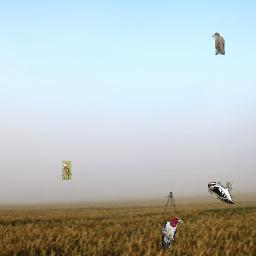Cuckoo: (212, 32, 225, 55)
Sparrow: (62, 161, 72, 180)
Woodpecker: (161, 217, 184, 250), (208, 182, 234, 204)
